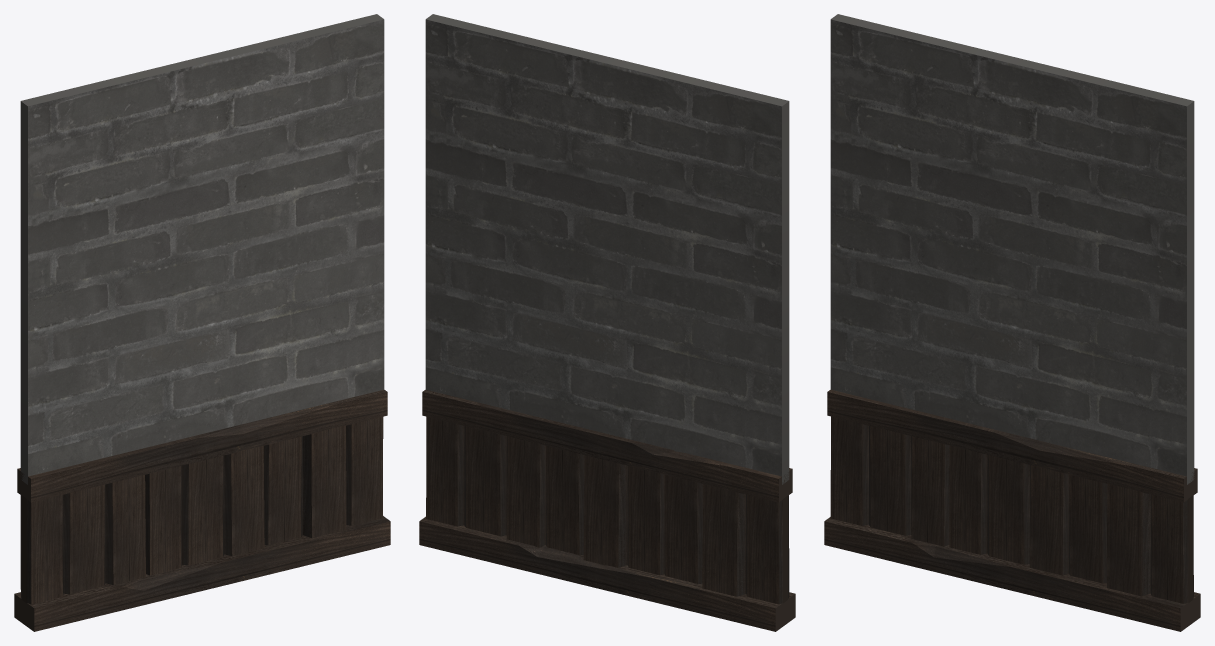
File: wall1_Mk2.fbx
3 renders of one model, left to right at view 1: azimuth 30°, elevation 25°; view 2: azimuth 150°, elevation 25°; view 3: azimuth 330°, elevation 25°, orthographic.
Visible parts, largest first — view 1: SM_Bld_House_Wall_02, SM_Bld_House_Wall_02.001; view 2: SM_Bld_House_Wall_02, SM_Bld_House_Wall_02.001; view 3: SM_Bld_House_Wall_02, SM_Bld_House_Wall_02.001.
Part boxes in pixels (bbox=[...]): SM_Bld_House_Wall_02: bbox=[20, 14, 384, 484]; SM_Bld_House_Wall_02.001: bbox=[14, 389, 390, 631]; SM_Bld_House_Wall_02: bbox=[425, 14, 789, 484]; SM_Bld_House_Wall_02.001: bbox=[419, 389, 795, 631]; SM_Bld_House_Wall_02: bbox=[830, 14, 1194, 484]; SM_Bld_House_Wall_02.001: bbox=[824, 389, 1200, 631].
Bounding box in the file's own units: 250 × 349 × 24.2.
Materials: 2 (2 with a texture image).
